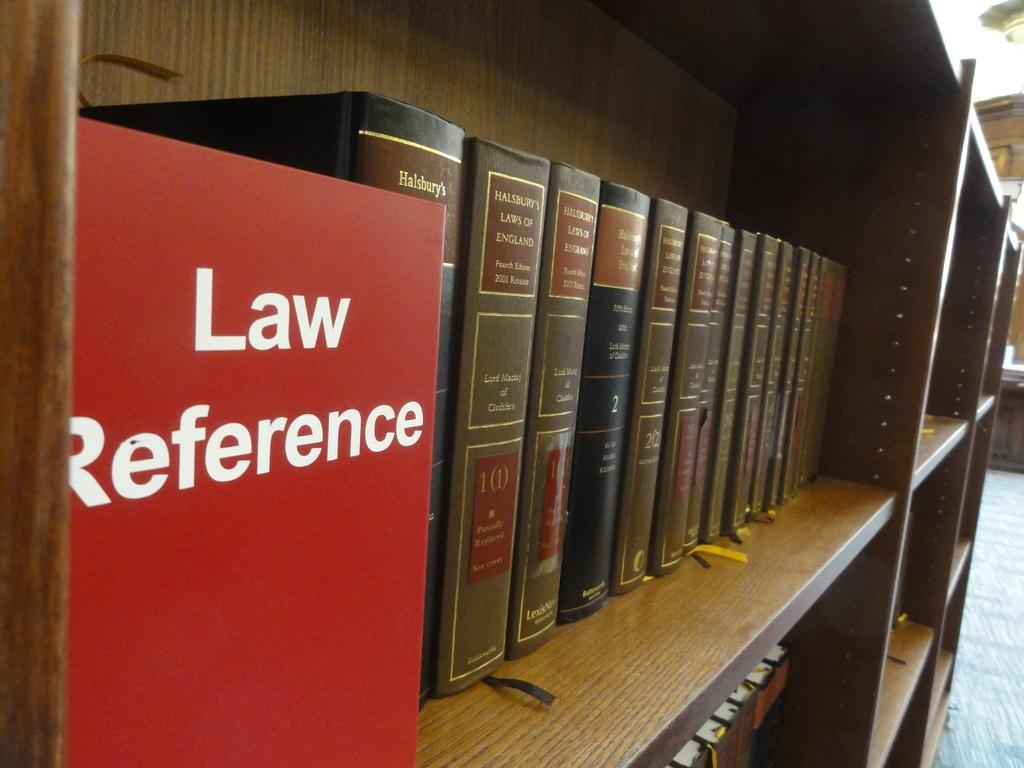Book: (66, 91, 461, 766), (431, 135, 551, 699), (504, 161, 601, 660), (556, 180, 650, 624), (609, 197, 689, 596), (649, 210, 729, 576)
